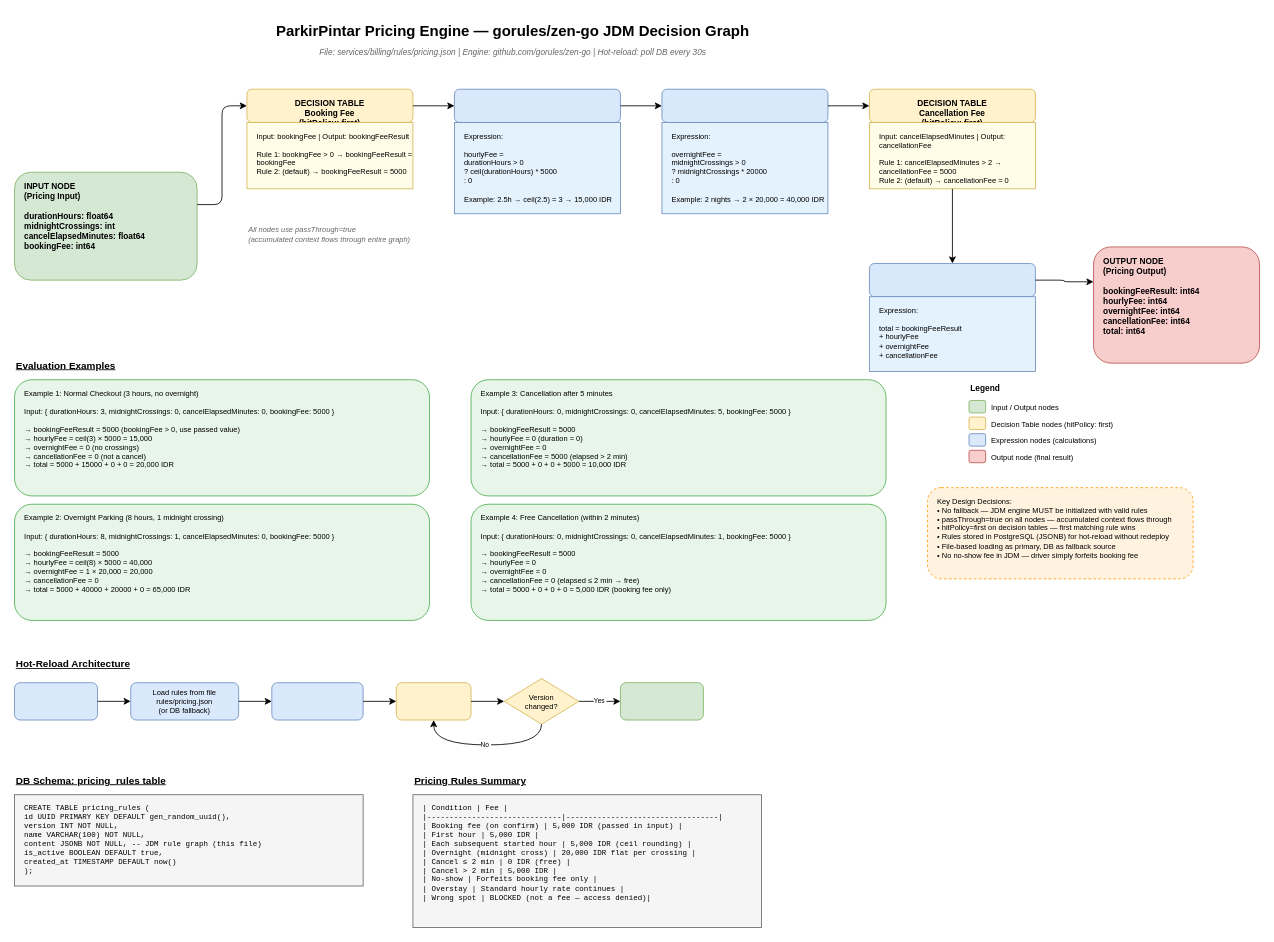
Image size: 1274x942. Some labels were removed from this diagram. Here are the shapes that lost their labels. From the top down, the centre of each, then its label:
At (x=537, y=105): "EXPRESSION NODE Hourly Fee Calculation".
At (x=744, y=105): "EXPRESSION NODE Overnight Fee Calculation".
At (x=952, y=280): "EXPRESSION NODE Total Calculation".
At (x=56, y=701): "Billing Service starts".
At (x=317, y=701): "Initialize zen.Engine + zen.Decision".
At (x=433, y=701): "Poll DB every 30s".
At (x=661, y=701): "Reload rules into engine".
